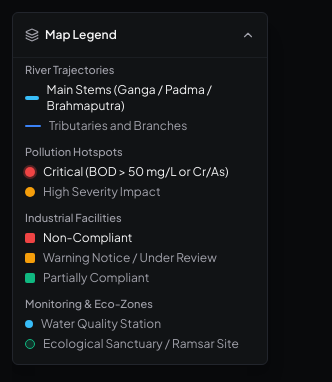
Test: Milestone 2: MapControls & MapLegend Interactions › toggles MapLegend collapsible state
The image size is (332, 382).
Expected: the text "Main Stems (Ganga / Padma / Brahmaputra)" is shown, x1=47 y1=82 x2=212 y2=113
Click the button with aria-label "Toggle Legend": (140, 35) x1=13 y1=13 x2=267 y2=57
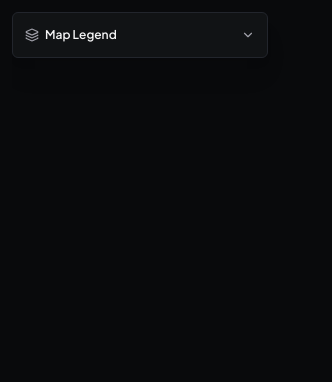
Result: the text "Main Stems (Ganga / Padma / Brahmaputra)" is gone
Click the button with aria-label "Toggle Legend": (140, 35) x1=13 y1=13 x2=267 y2=57
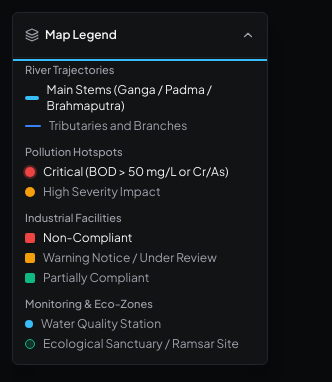
Result: the text "Main Stems (Ganga / Padma / Brahmaputra)" is shown at x1=47 y1=82 x2=212 y2=113
